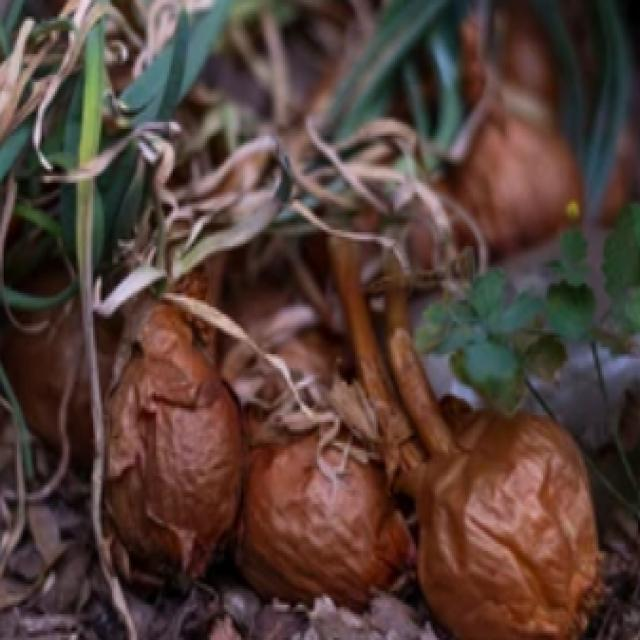rotten: (134, 340, 216, 528)
sprouting: (304, 220, 450, 440), (82, 178, 175, 302)
